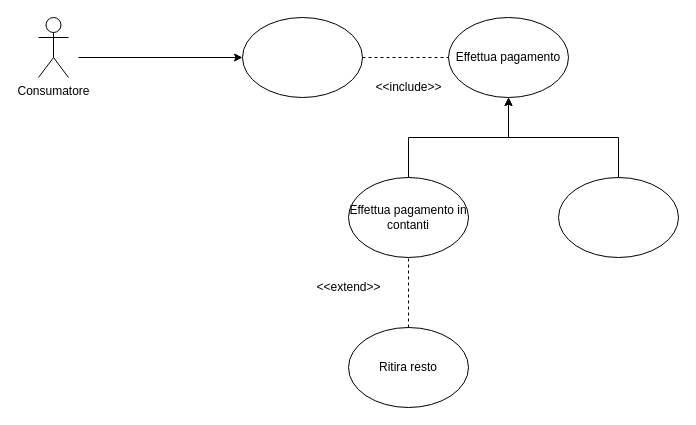
The diagram is 696 pixels wide and 425 high, and some of its shapes have lost their labels. Here are the shapes that lost their labels. From the top down, the centre of each, then its label:
At point 302,57: "Acquisto Prodotto".
At point 618,217: "Effettua pagamento con chiavetta".
